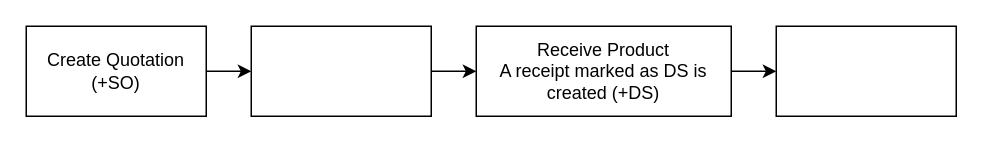
The diagram is 983 pixels wide and 143 high, and some of its shapes have lost their labels. Each missing label, with the box of its shape:
Create Purchase Order (+PO): (250, 25, 431, 116)
Validate receipt DS->Delivery Order: (775, 25, 956, 116)
